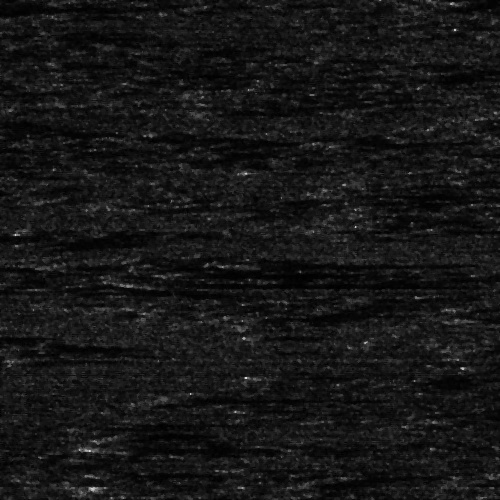object: (94, 436, 135, 455), (159, 392, 222, 403), (218, 256, 281, 265), (105, 279, 168, 288), (322, 188, 363, 197), (104, 421, 135, 430), (0, 354, 27, 363), (94, 134, 135, 139), (143, 269, 184, 274), (495, 198, 500, 203)
shadow: (115, 436, 258, 455), (136, 279, 427, 288), (191, 392, 388, 403), (250, 256, 451, 265), (120, 421, 263, 430), (163, 269, 407, 274), (343, 188, 448, 197), (12, 354, 105, 363), (0, 0, 123, 6), (115, 134, 212, 139)
